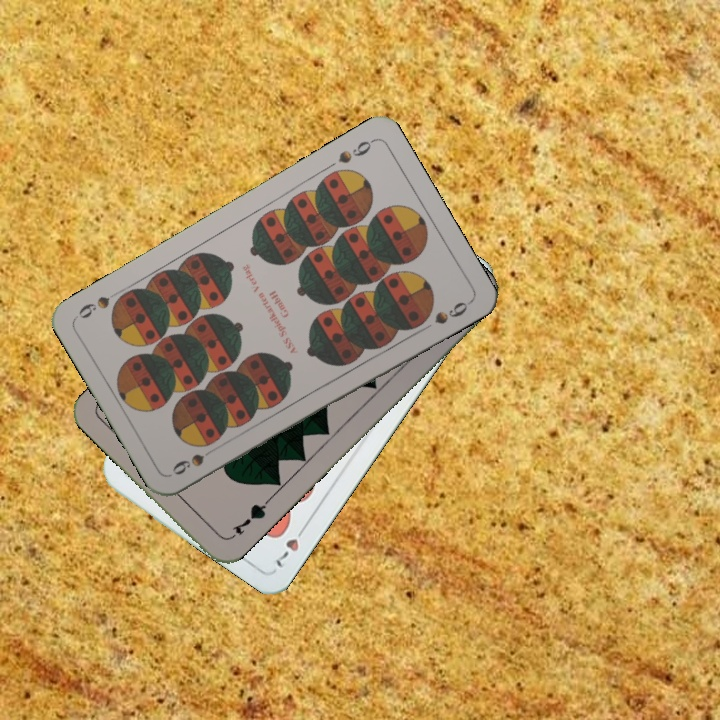G7: (225, 496, 271, 542)
H7: (271, 519, 311, 571)
S9: (168, 441, 222, 478), (334, 135, 377, 166)
